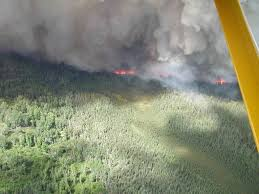fire: (105, 57, 138, 78), (205, 76, 231, 90)
